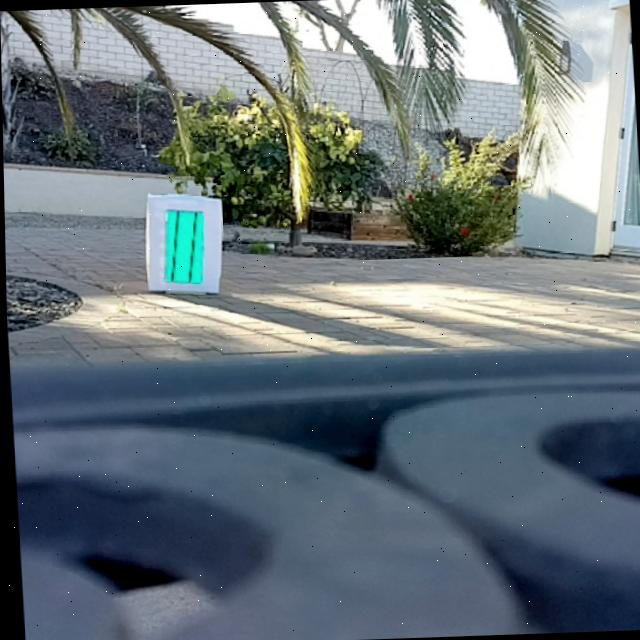led: (161, 208, 203, 285)
